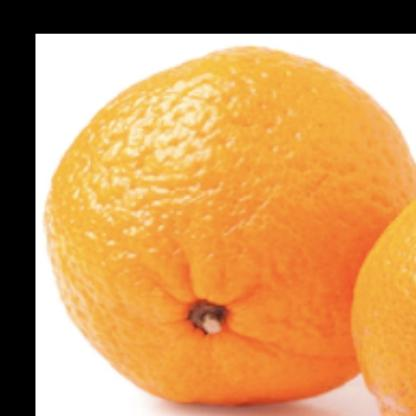rotten: (35, 41, 416, 416)
